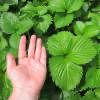Strawberry leaf: (47, 53, 84, 93), (66, 34, 98, 66), (46, 30, 77, 56), (32, 14, 55, 34), (0, 11, 19, 35), (20, 2, 49, 16), (53, 10, 74, 29), (16, 18, 33, 35), (9, 32, 24, 50)
